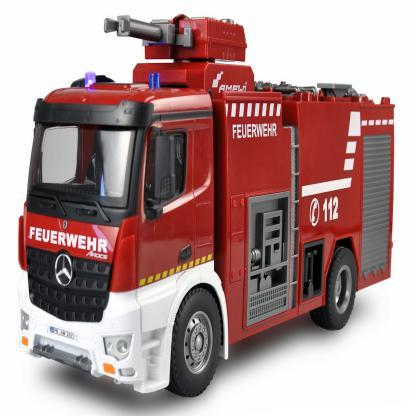fire-truck: (17, 0, 410, 416)
